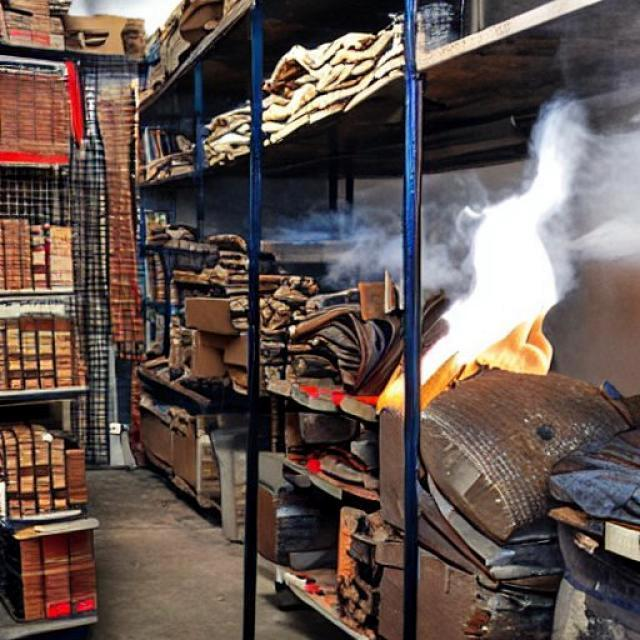Smoke: (445, 88, 640, 356), (277, 202, 433, 284)
